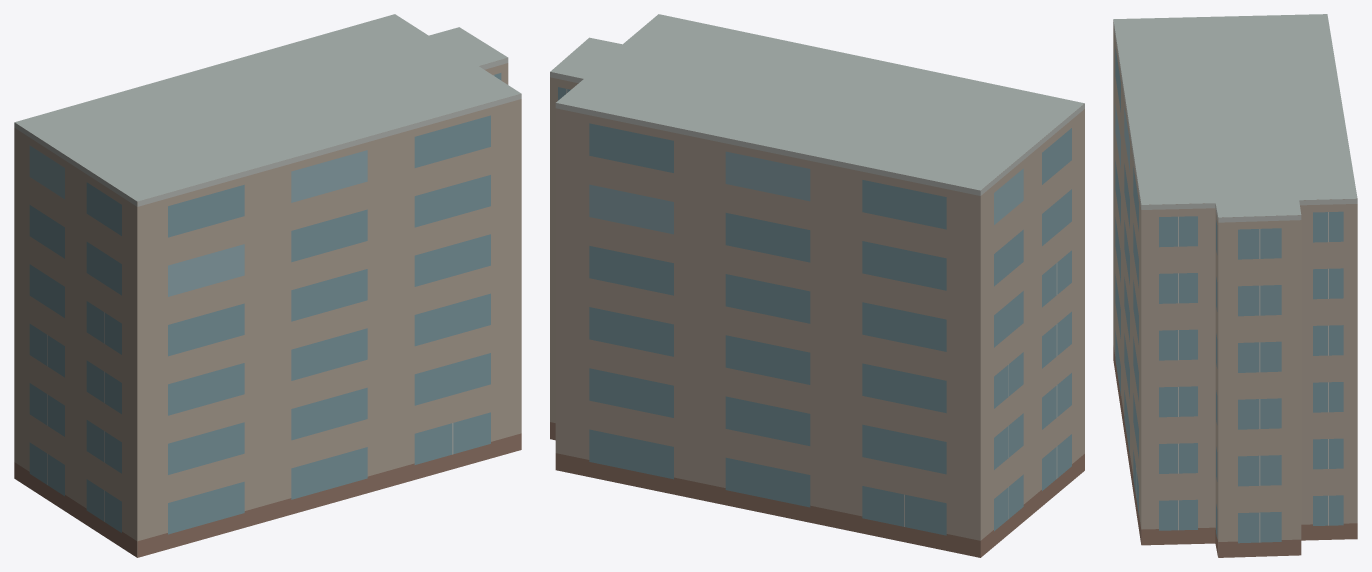
The model's file is survey-upis-32804741.glb.
The picture shows the model from 3 angles, left to right: view 1: azimuth 30°, elevation 25°; view 2: azimuth 150°, elevation 25°; view 3: azimuth 270°, elevation 25°; orthographic projection. The views are drawn at different scales.
Visible parts, largest first — view 1: survey-upis-32804741.tmp; view 2: survey-upis-32804741.tmp; view 3: survey-upis-32804741.tmp.
Part boxes in pixels (left/top/right/bottom): survey-upis-32804741.tmp: left=14, top=14, right=521, bottom=557; survey-upis-32804741.tmp: left=550, top=14, right=1084, bottom=557; survey-upis-32804741.tmp: left=1113, top=14, right=1357, bottom=557.
Bounding box in the file's own units: 20.86 × 16.25 × 10.58.
